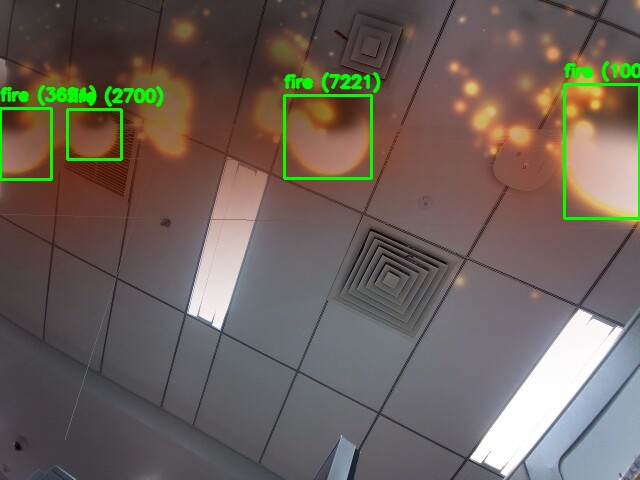fire: (564, 84, 639, 218), (284, 95, 371, 178), (0, 108, 51, 179), (67, 109, 121, 159)
